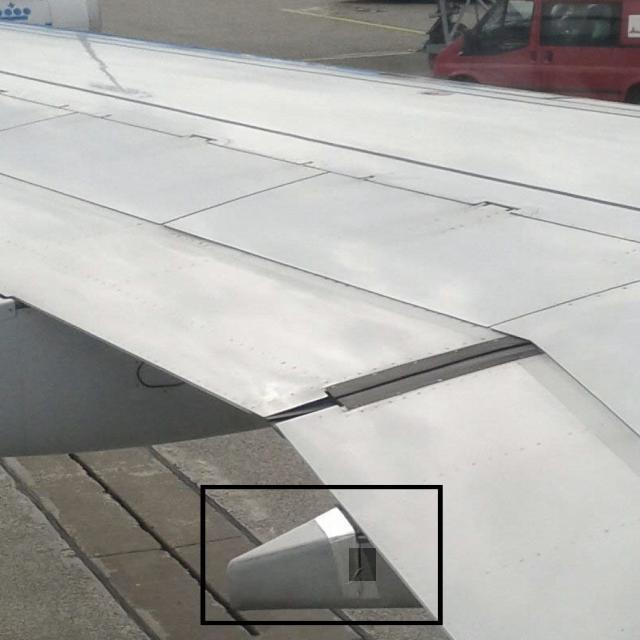crack: (350, 549, 377, 582)
